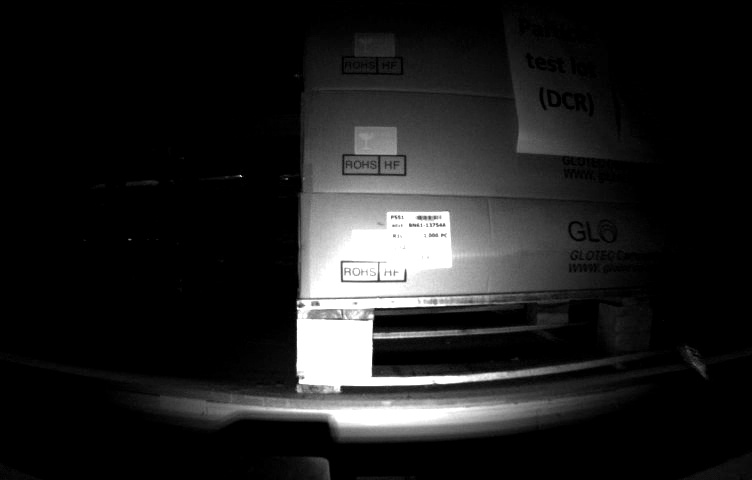True Barcode: (385, 203, 455, 270)
